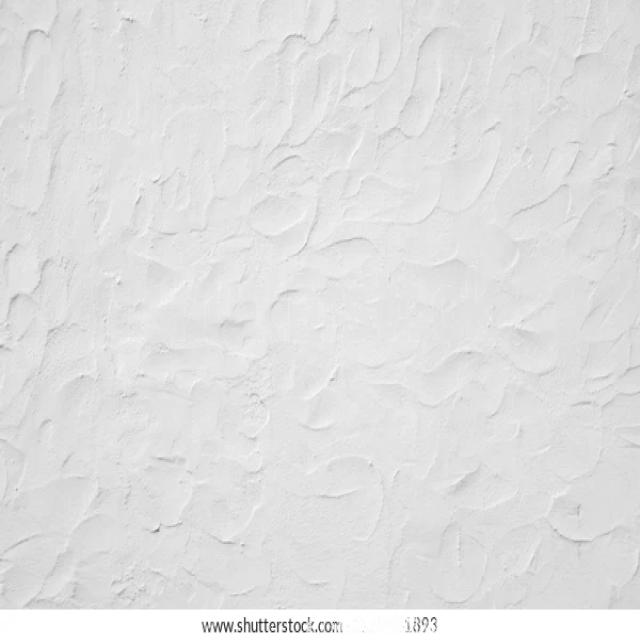rough and patchy surface: (2, 5, 635, 605)
